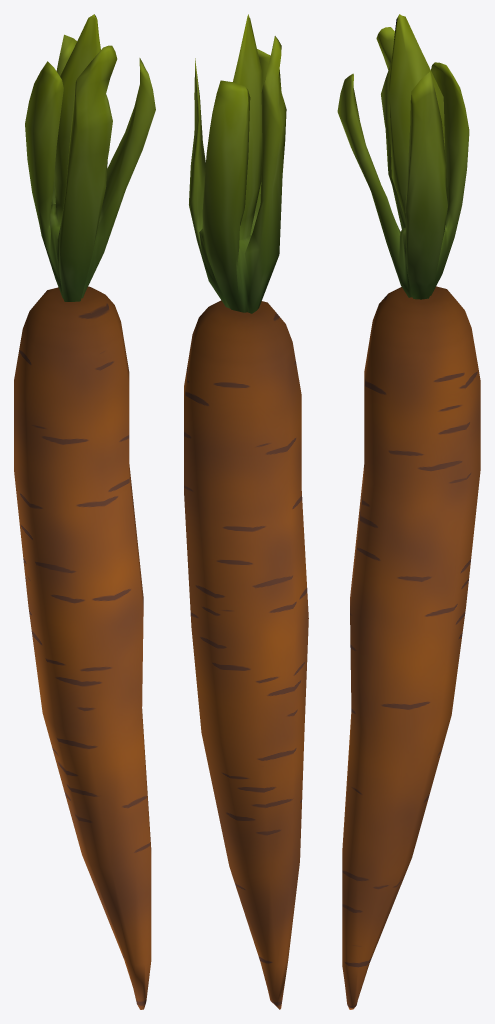
Rendered from carrot.fbx.
3 renders of one model, left to right at view 1: azimuth 90°, elevation 25°; view 2: azimuth 150°, elevation 25°; view 3: azimuth 270°, elevation 25°, orthographic.
Parts seen in each view (by area): view 1: Cylinder; view 2: Cylinder; view 3: Cylinder.
Part boxes in pixels (x1,y1,x2,y2): Cylinder: (14,14,155,1009); Cylinder: (184,14,308,1009); Cylinder: (337,14,480,1009).
Size of the model in its own units: 197 by 1843 by 239.
